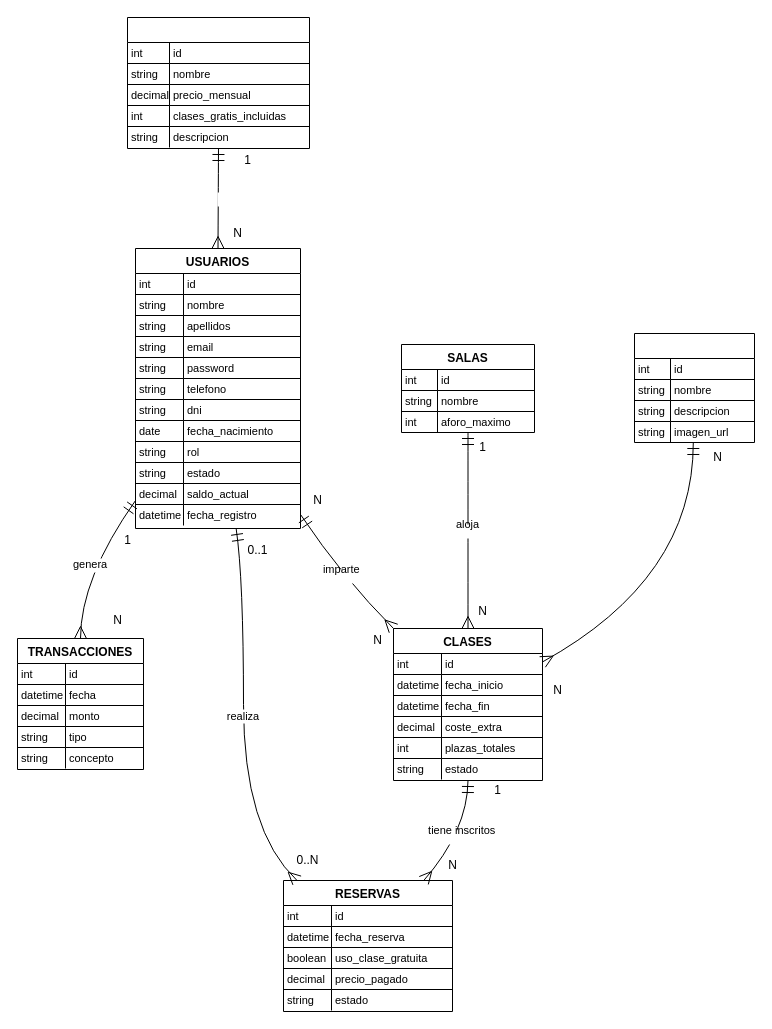
Image size: 772x1029. Some labels were removed from this diagram. The shapes that lost their labels are listed below. From the top down, each one's box as (x1, y1, x2, y2) in pixels, then its label:
(126, 16, 310, 148): PLANES
(634, 332, 754, 442): ACTIVIDADES
